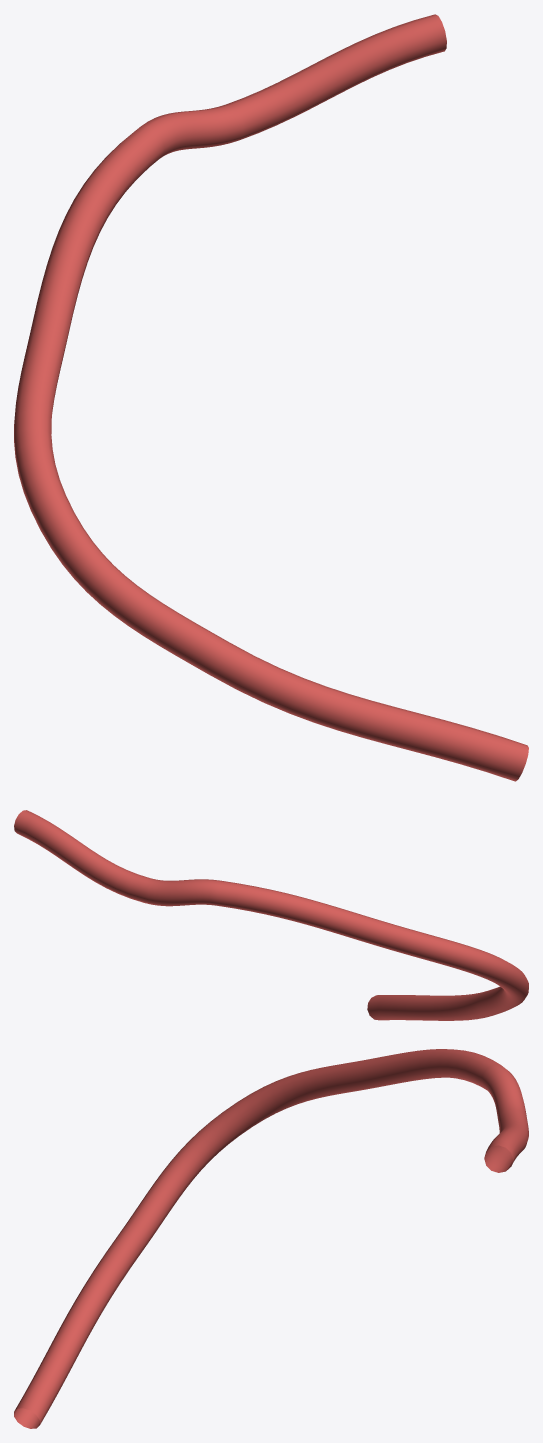
3 renders of one model, top to bottom at view 1: azimuth 30°, elevation 25°; view 2: azimuth 150°, elevation 25°; view 3: azimuth 270°, elevation 25°, orthographic. The views are drawn at different scales.
Parts seen in each view (by area): view 1: 左侧尺动脉腕背支; view 2: 左侧尺动脉腕背支; view 3: 左侧尺动脉腕背支.
Part boxes in pixels (bbox=[...]): 左侧尺动脉腕背支: bbox=[14, 14, 528, 781]; 左侧尺动脉腕背支: bbox=[14, 810, 528, 1020]; 左侧尺动脉腕背支: bbox=[14, 1049, 528, 1428].
Bounding box in the file's own units: 0.0358 × 0.0287 × 0.0362.
